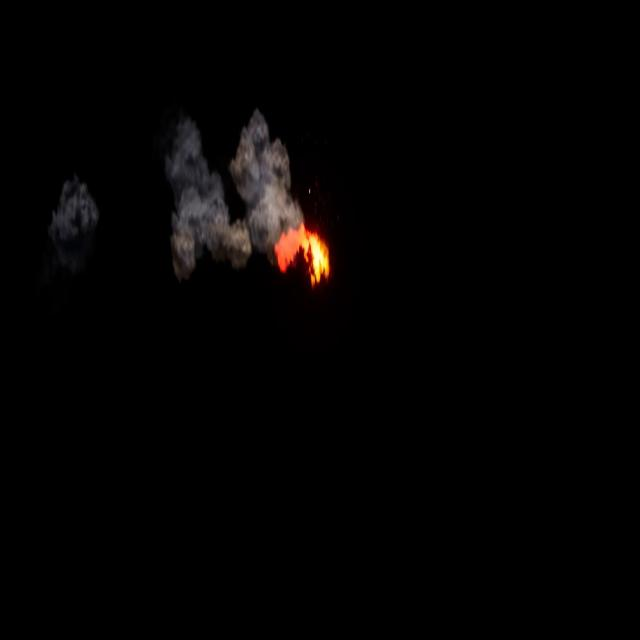fire: (274, 217, 330, 289)
smoke: (166, 106, 302, 268), (54, 183, 104, 236)
